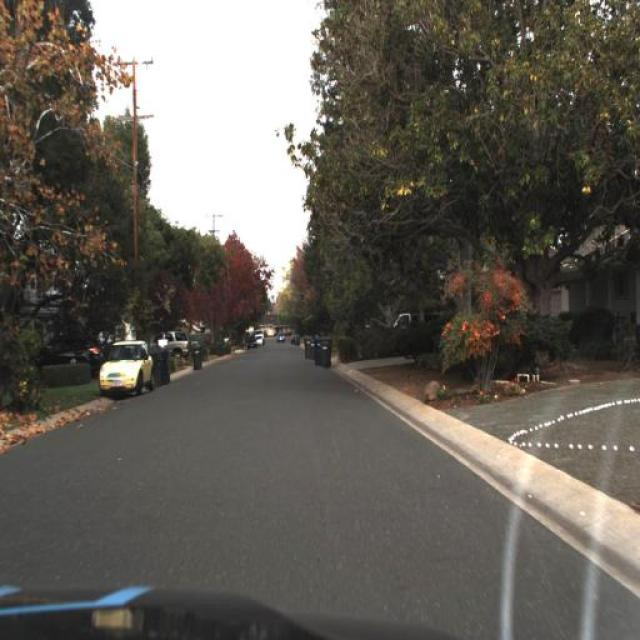car: (97, 335, 159, 407), (36, 331, 108, 367), (154, 328, 200, 360)
